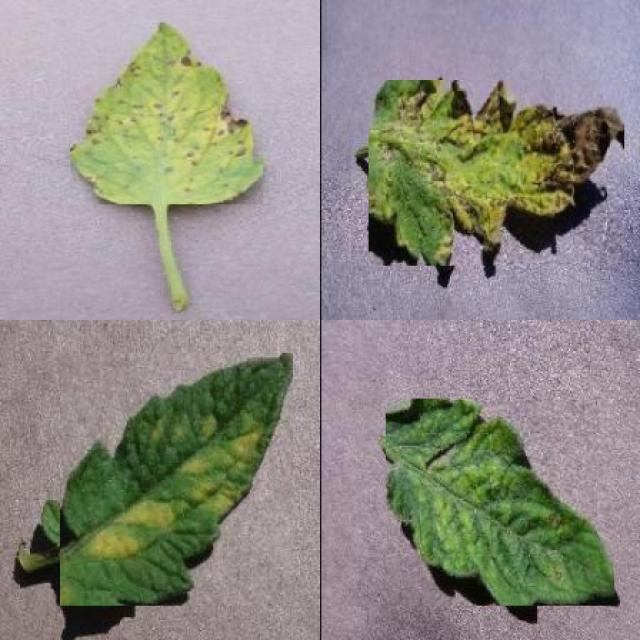Leaf Mold: (60, 353, 293, 606)
Mosaic Virus: (385, 398, 615, 606)
Septoria: (369, 80, 624, 266), (70, 22, 263, 205)
